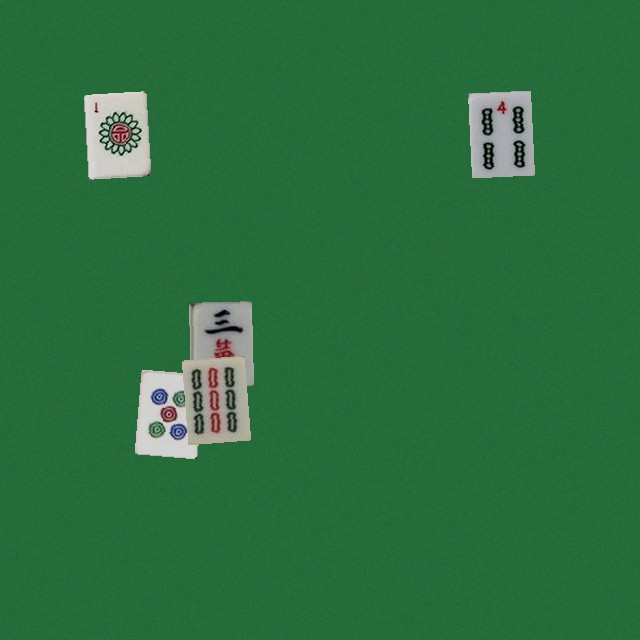tile: (134, 369, 197, 454), (188, 301, 251, 386), (467, 90, 530, 175), (181, 355, 244, 440), (83, 91, 146, 176)
